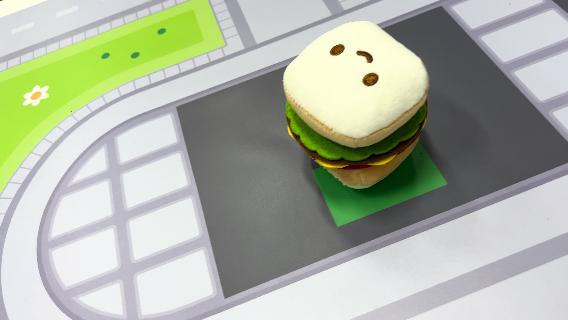sandwich: (280, 18, 432, 190)
